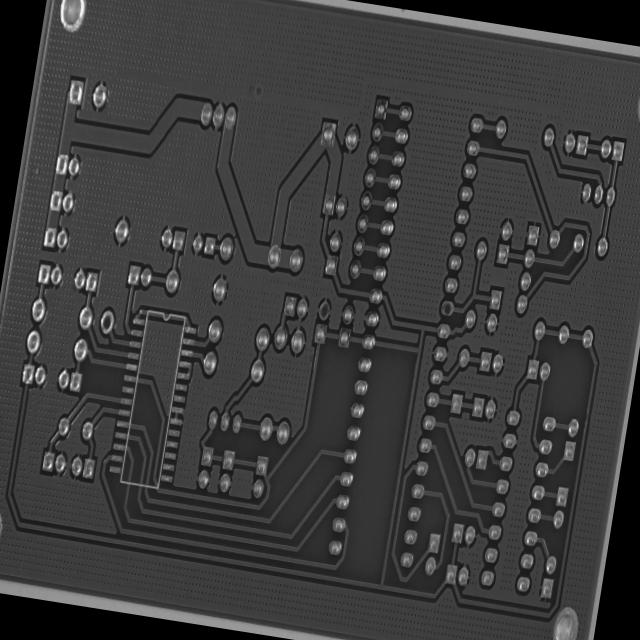missing_hole: (96, 305, 118, 337), (438, 295, 458, 324), (316, 296, 332, 324)
